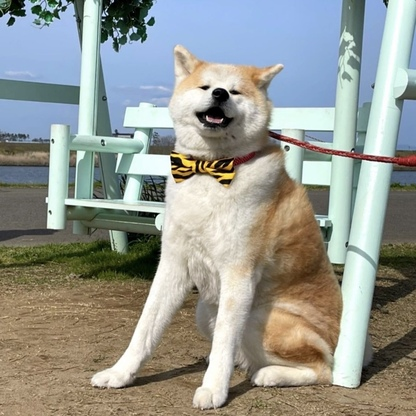akita: (85, 38, 379, 412)
